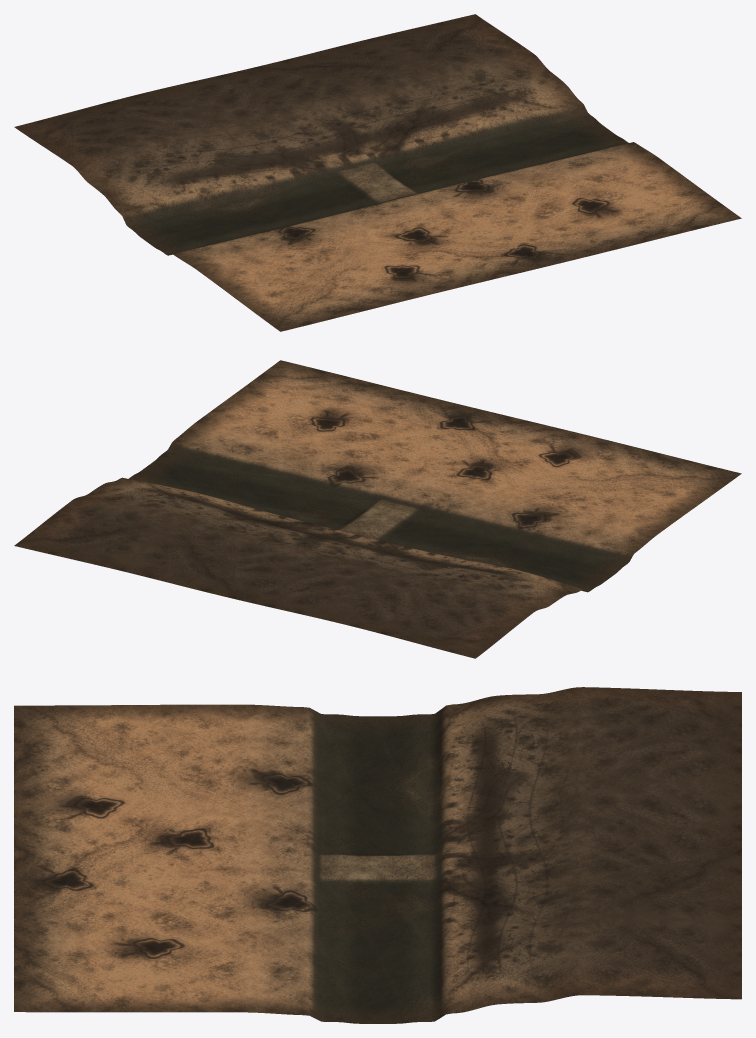
The model's file is baron-terrain.glb.
3 renders of one model, top to bottom at view 1: azimuth 30°, elevation 25°; view 2: azimuth 150°, elevation 25°; view 3: azimuth 270°, elevation 25°, orthographic. The views are drawn at different scales.
Parts seen in each view (by area): view 1: BaronTerrain; view 2: BaronTerrain; view 3: BaronTerrain.
Boxes of the visible parts, bbox=[...] form: BaronTerrain: bbox=[14, 14, 741, 331]; BaronTerrain: bbox=[14, 360, 741, 658]; BaronTerrain: bbox=[14, 687, 741, 1023].
Size of the model in its own units: 64 by 3.63 by 64.
Materials: 1 (1 with a texture image).
